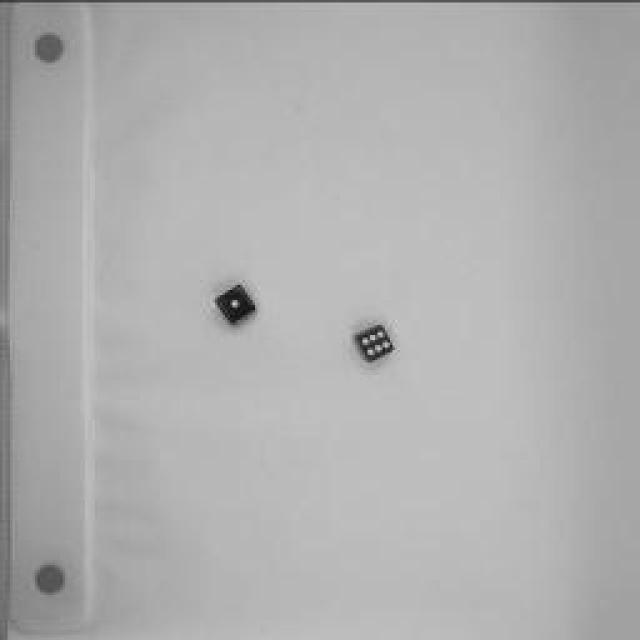dice_1: (204, 274, 261, 331)
dice_6: (348, 314, 400, 366)
